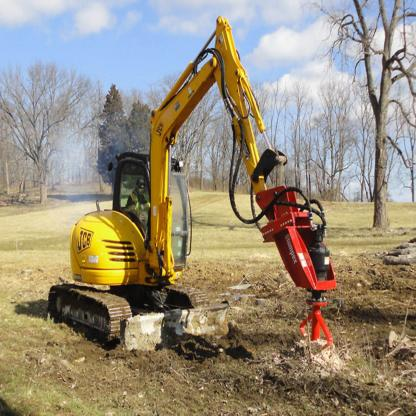excavator: (53, 21, 363, 392)
